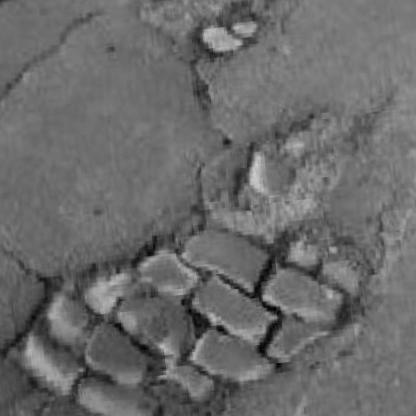pothole: (0, 211, 369, 416), (192, 0, 266, 59)
